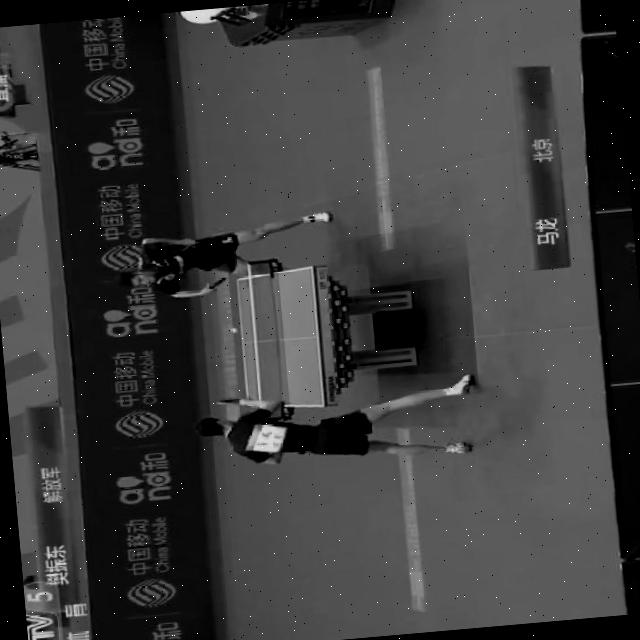ping-pong-ball: (225, 325, 238, 334)
